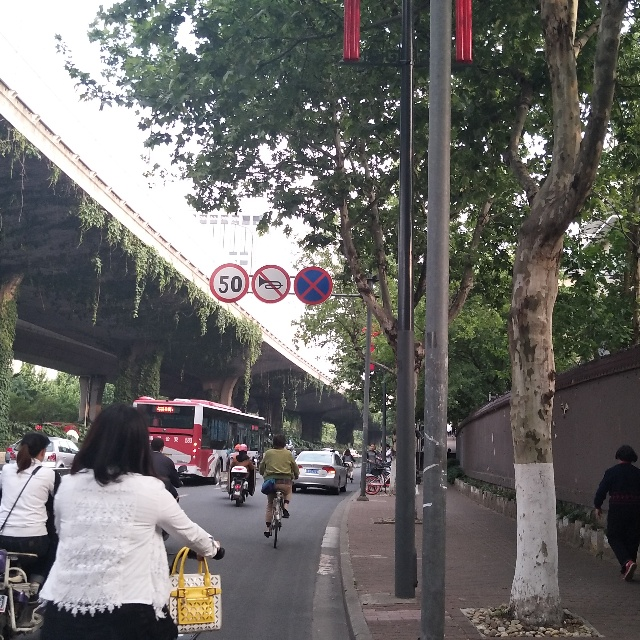nohonk: (250, 265, 293, 308)
stop: (295, 266, 334, 307)
